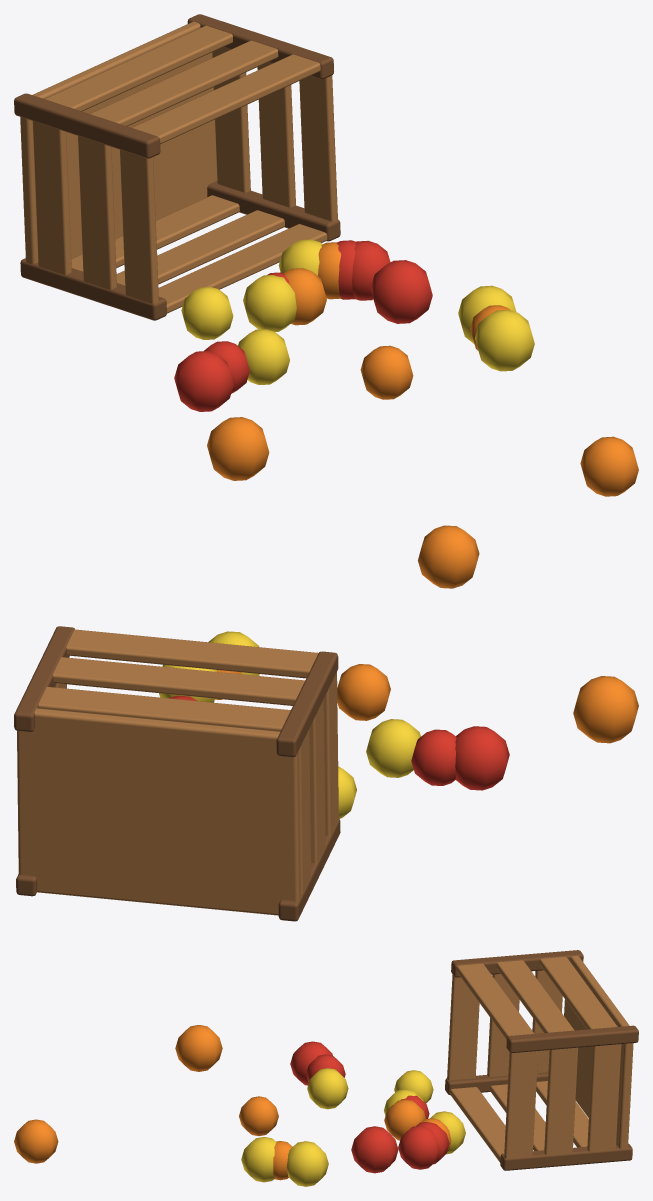
The model's file is mk_crate_spill.glb.
3 renders of one model, top to bottom at view 1: azimuth 30°, elevation 25°; view 2: azimuth 150°, elevation 25°; view 3: azimuth 270°, elevation 25°, orthographic. The views are drawn at different scales.
Visible parts, largest first — view 1: mk_crate_spill_body; view 2: mk_crate_spill_body; view 3: mk_crate_spill_body.
Part boxes in pixels (bbox=[...]): mk_crate_spill_body: bbox=[14, 14, 638, 496]; mk_crate_spill_body: bbox=[14, 525, 638, 921]; mk_crate_spill_body: bbox=[14, 950, 638, 1186].
Size of the model in its own units: 0.9919 by 0.4762 by 1.94.
